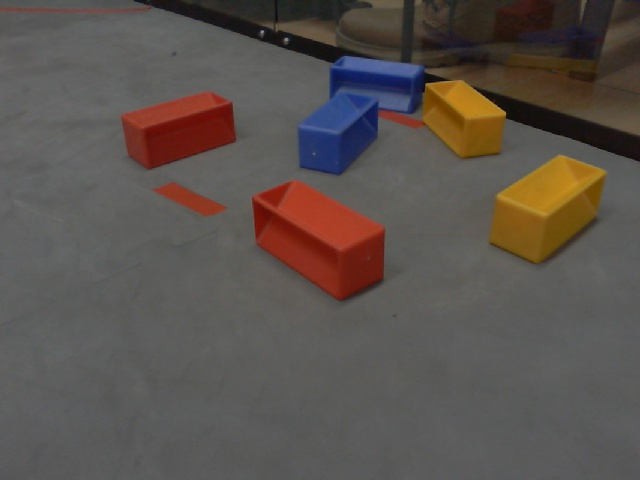BlueSample: (294, 90, 380, 180), (328, 49, 426, 117)
RedSample: (243, 171, 398, 302), (117, 85, 238, 172)
YellowSample: (487, 152, 610, 267), (422, 74, 510, 165)
